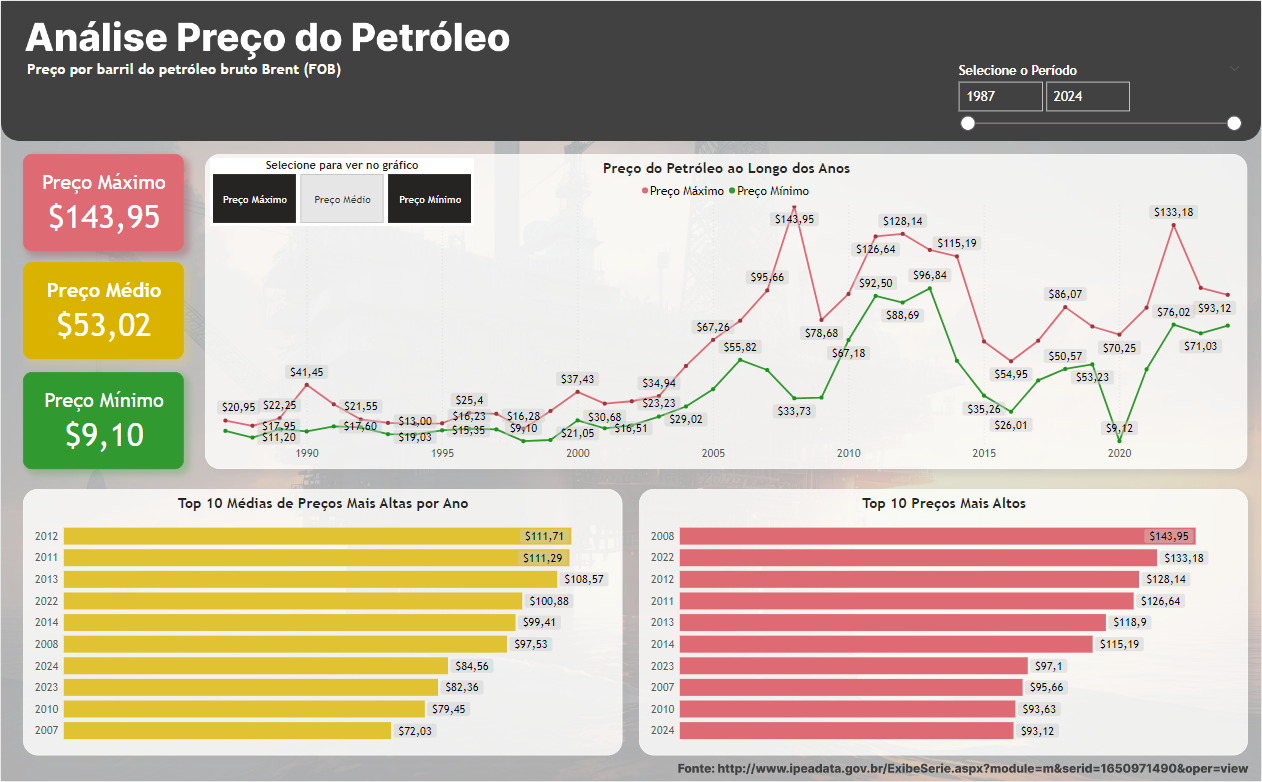

The dashboard page shown, as its layout file describes it:
{"tool":"powerbi","page":{"name":"Dashboard_Preço_Petróleo","canvas":[2100,1300],"ordinal":0},"visuals":[{"type":"lineChart","title":"Preço do Petróleo ao Longo dos Anos","fields":{"Y":["base_preco_petroleo.preco_maximo","base_preco_petroleo.preco_min"],"Category":["base_preco_petroleo.Data.Variation.Hierarquia de datas.Ano","base_preco_petroleo.Data.Variation.Hierarquia de datas.Trimestre","base_preco_petroleo.Data.Variation.Hierarquia de datas.Mês","base_preco_petroleo.Data.Variation.Hierarquia de datas.Dia"]},"box":[340,255,1736.7,525],"z":0},{"type":"slicer","fields":{"Values":["base_preco_petroleo.Data.Variation.Hierarquia de datas.Ano"]},"box":[1583.3,96.7,493.3,146.7],"z":1000},{"type":"cardVisual","fields":{"Data":["base_preco_petroleo.preco_maximo"]},"box":[36.7,255,268.3,161.7],"z":2000},{"type":"clusteredBarChart","title":"Top 10 Médias de Preços Mais Altas por Ano","fields":{"Category":["base_preco_petroleo.Ano"],"Y":["base_preco_petroleo.preco_medio"]},"box":[36.2,813.8,998.8,443.8],"z":3000},{"type":"clusteredBarChart","title":"Top 10 Preços Mais Altos","fields":{"Category":["base_preco_petroleo.Ano"],"Y":["base_preco_petroleo.preco_maximo"]},"box":[1062.5,813.8,1015,443.8],"z":4000},{"type":"cardVisual","fields":{"Data":["base_preco_petroleo.preco_medio"]},"box":[36.7,435,268.3,161.7],"z":5000},{"type":"cardVisual","fields":{"Data":["base_preco_petroleo.preco_min"]},"box":[36.7,618.3,268.3,161.7],"z":6000},{"type":"advancedSlicerVisual","title":"Selecione para ver no gráfico","fields":{"Values":["Parâmetro.Parâmetro"]},"box":[348.3,261.7,440,113.3],"z":7000},{"type":"textbox","box":[37.7,93.4,565.6,55.7],"z":7001}]}

Visuals, with their boxes in screenshot pixels (x1, y1, x2, y2), scaled from the page's 2100x1300 canvas onto the 1262x782 screenshot:
"Preço do Petróleo ao Longo dos Anos" lineChart: (204,153,1248,469)
slicer - base_preco_petroleo.Data.Variation.Hierarquia de datas.Ano: (951,58,1248,146)
cardVisual - base_preco_petroleo.preco_maximo: (22,153,183,251)
"Top 10 Médias de Preços Mais Altas por Ano" clusteredBarChart: (22,490,622,756)
"Top 10 Preços Mais Altos" clusteredBarChart: (639,490,1248,756)
cardVisual - base_preco_petroleo.preco_medio: (22,262,183,359)
cardVisual - base_preco_petroleo.preco_min: (22,372,183,469)
"Selecione para ver no gráfico" advancedSlicerVisual: (209,157,474,226)
textbox: (23,56,363,90)
